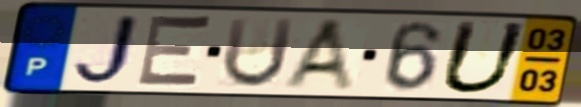6: (382, 18, 448, 95)
A: (278, 16, 359, 94)
E: (132, 11, 217, 92)
J: (68, 11, 144, 89)
U: (435, 18, 534, 97), (218, 15, 299, 91)
